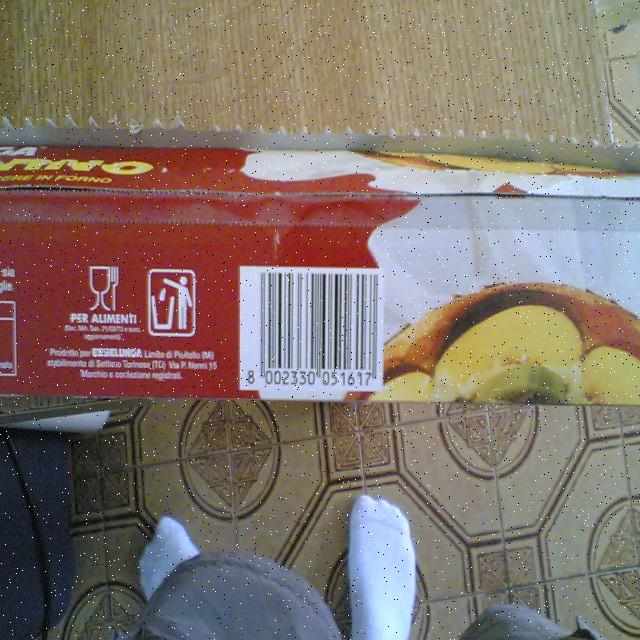barcode: (239, 267, 380, 384)
